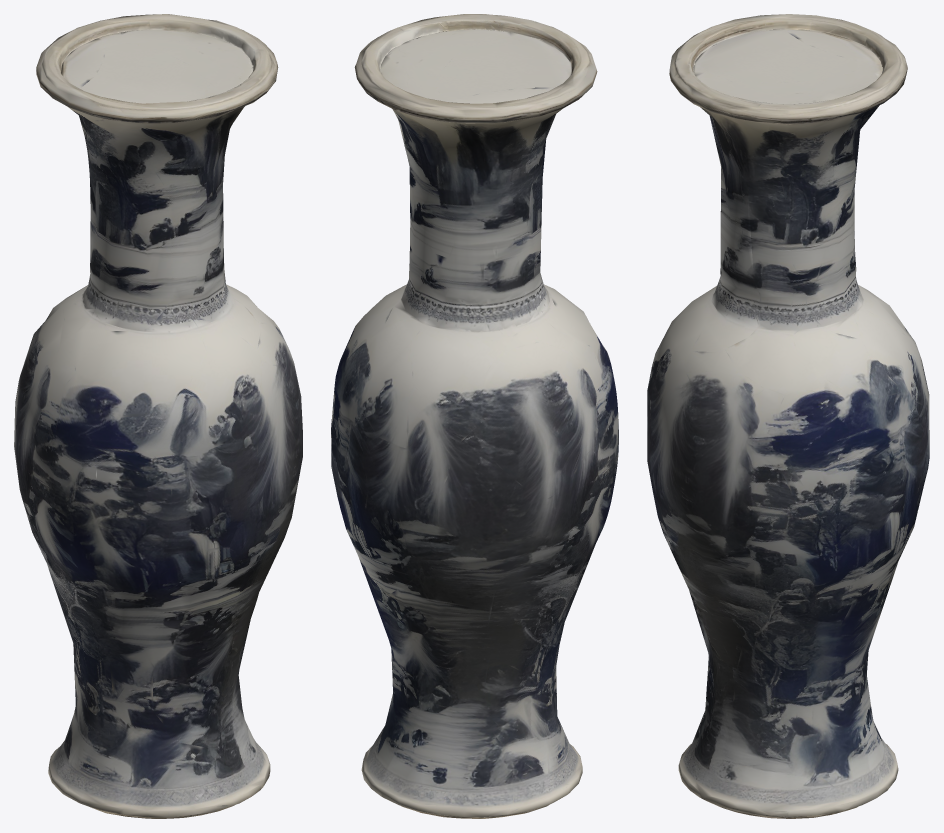
The picture shows the model from 3 angles, left to right: view 1: azimuth 30°, elevation 25°; view 2: azimuth 150°, elevation 25°; view 3: azimuth 270°, elevation 25°; orthographic projection.
Parts seen in each view (by area): view 1: node_0; view 2: node_0; view 3: node_0.
Part boxes in pixels (<box>): node_0: <box>14,14,302,818</box>; node_0: <box>331,14,618,818</box>; node_0: <box>647,14,929,818</box>.
Bounding box in the file's own units: 0.4228 × 1.15 × 0.4131.
Materials: 1 (1 with a texture image).
